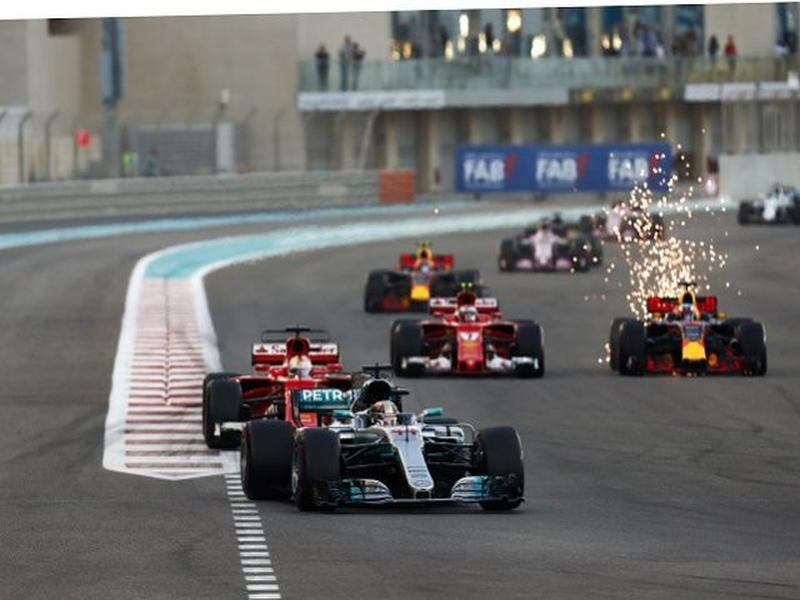racecar: (244, 382, 532, 513), (196, 324, 394, 424), (602, 278, 773, 384), (388, 292, 551, 379), (357, 254, 497, 301), (491, 220, 599, 273), (737, 186, 800, 227)
